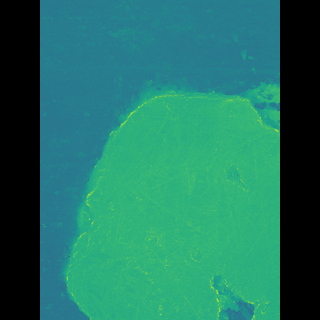Loch: (82, 75, 249, 320)
